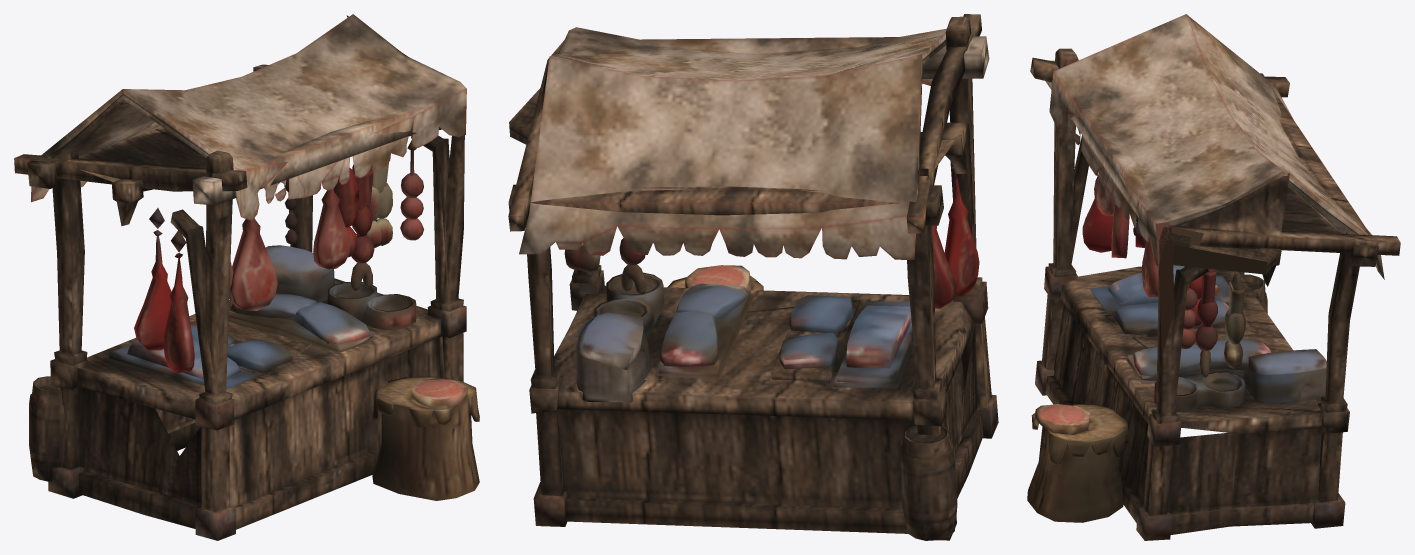
Rendered from meat.glb.
3 views of the same model, side by side, from view 1: azimuth 30°, elevation 25°; view 2: azimuth 150°, elevation 25°; view 3: azimuth 270°, elevation 25° (orthographic). The views are drawn at different scales.
Visible parts, largest first — view 1: market_stall_meat; view 2: market_stall_meat; view 3: market_stall_meat.
Boxes of the visible parts, bbox=[...] form: market_stall_meat: bbox=[14, 14, 479, 540]; market_stall_meat: bbox=[508, 14, 998, 540]; market_stall_meat: bbox=[1027, 14, 1400, 540].
Size of the model in its own units: 3 by 3.16 by 2.72.
Materials: 1 (1 with a texture image).
